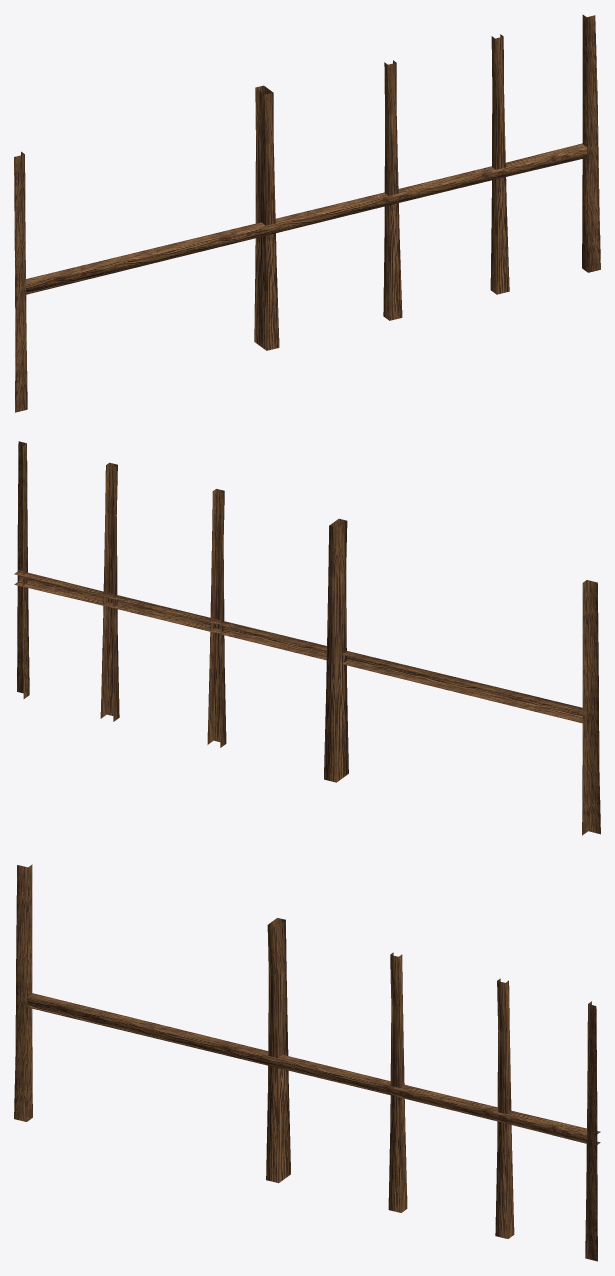
Rendered from LAKETOWN_WAREHOUSE1_PS_WH1_SIDEBEAMS94948.obj.
The picture shows the model from 3 angles, top to bottom: view 1: azimuth 30°, elevation 25°; view 2: azimuth 150°, elevation 25°; view 3: azimuth 330°, elevation 25°; orthographic projection.
Parts seen in each view (by area): view 1: _SideBeams94948; view 2: _SideBeams94948; view 3: _SideBeams94948.
Part boxes in pixels (bbox=[...]): _SideBeams94948: bbox=[14, 14, 600, 412]; _SideBeams94948: bbox=[14, 441, 600, 835]; _SideBeams94948: bbox=[14, 864, 600, 1261].
Size of the model in its own units: 1969 by 819 by 75.56.
